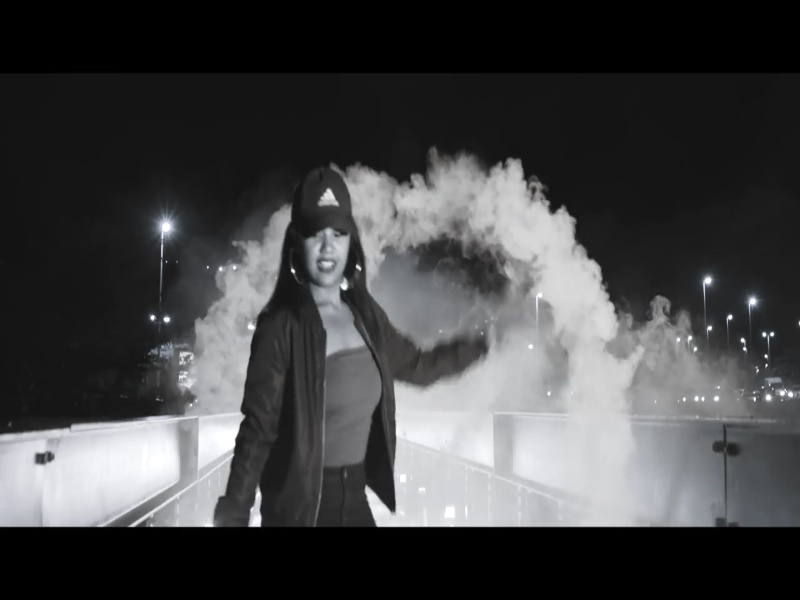TsisyArotava: (284, 165, 369, 307)
